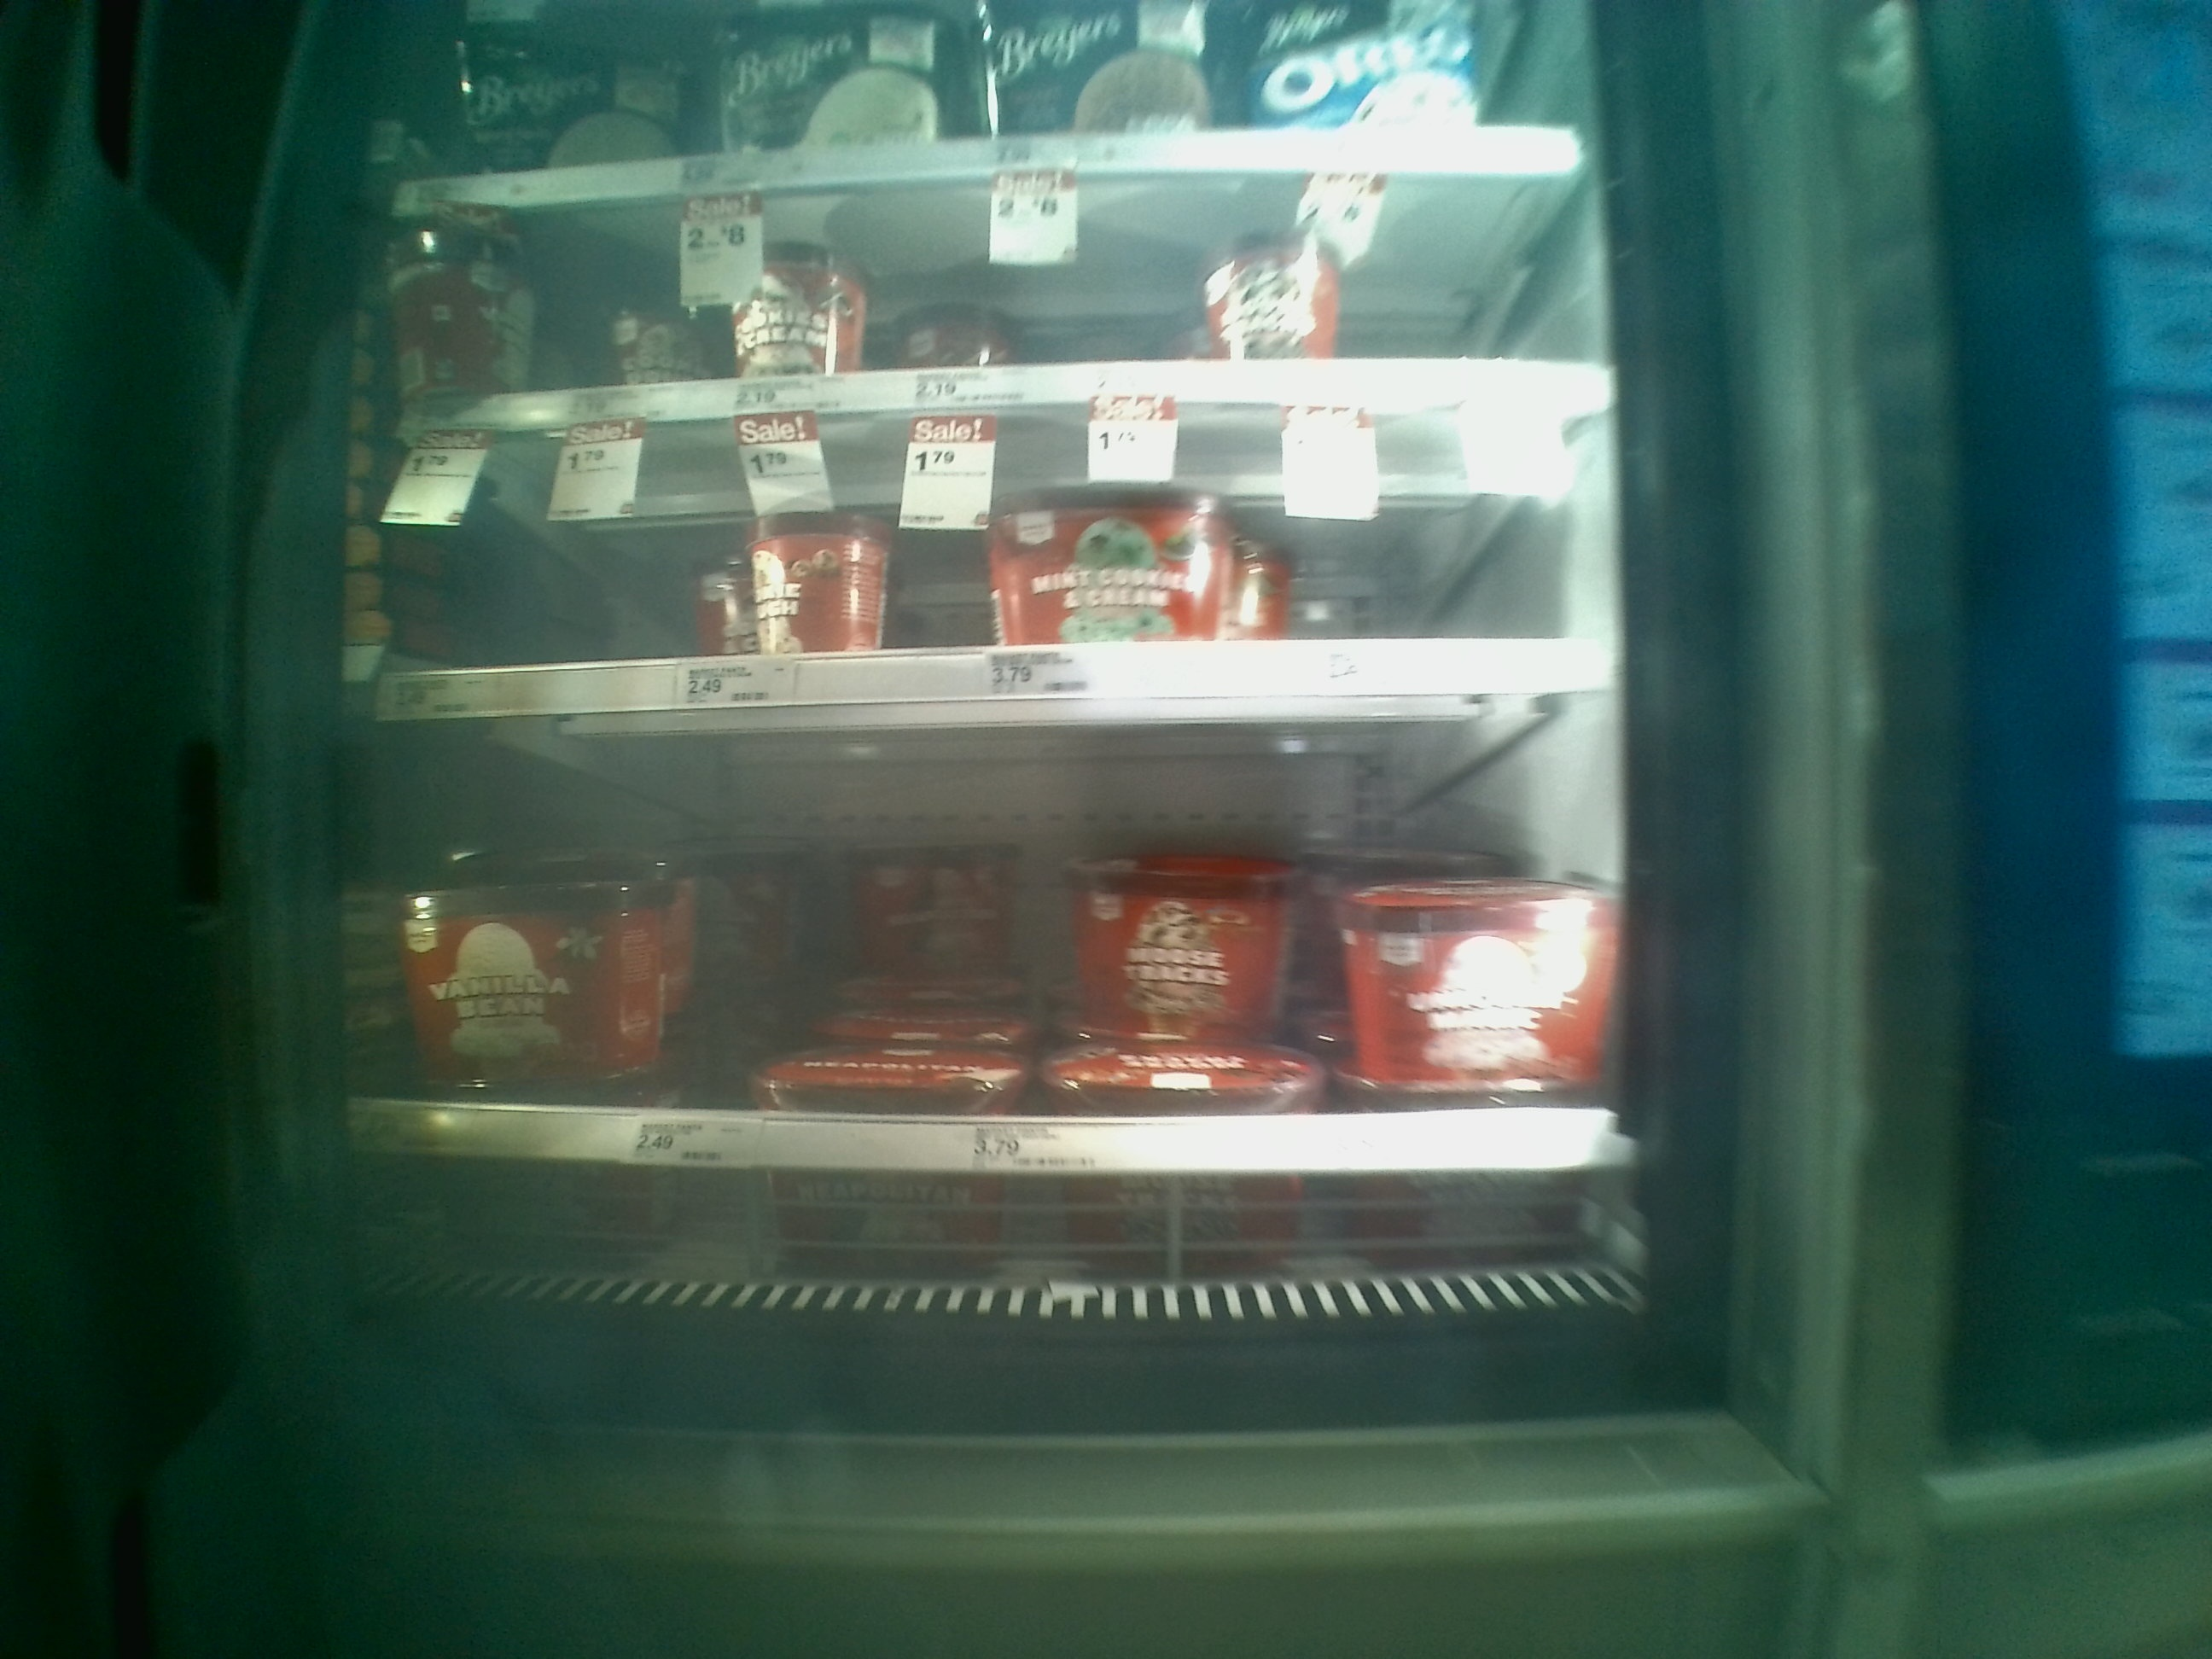ice-cream-shelf: (394, 704, 1629, 1195), (399, 420, 1615, 706), (404, 169, 1604, 422)
